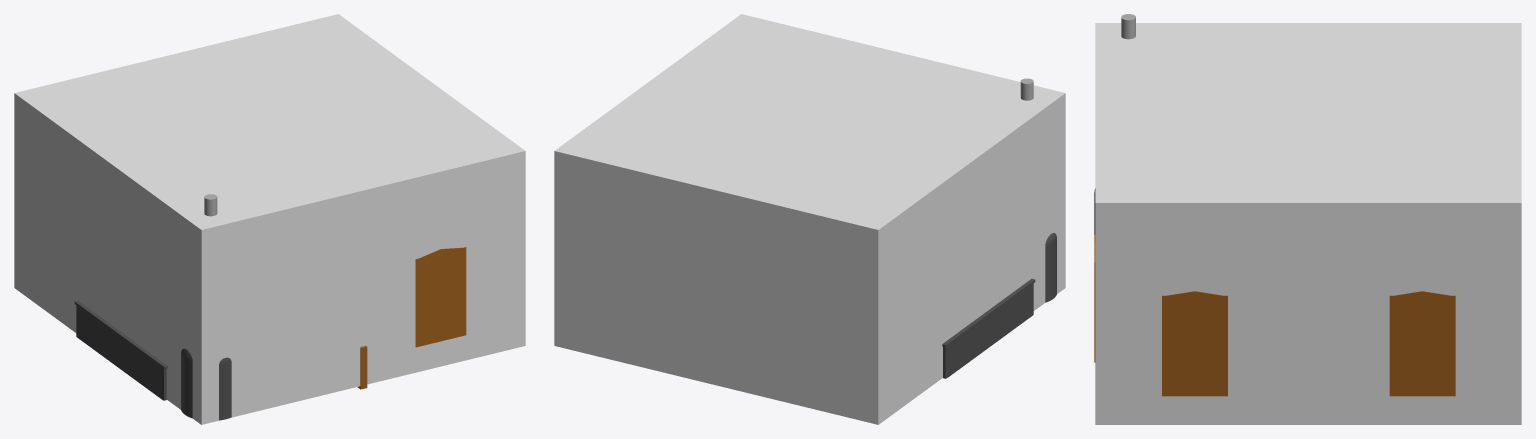
File: pizzeria.fbx
The picture shows the model from 3 angles, left to right: view 1: azimuth 30°, elevation 25°; view 2: azimuth 150°, elevation 25°; view 3: azimuth 270°, elevation 25°; orthographic projection. The views are drawn at different scales.
Visible parts, largest first — view 1: Pizzaria, WindowObject.003, Cube.001, FurnaceObject; view 2: Pizzaria, Cube.001, FurnaceObject; view 3: Pizzaria, WindowObject, WindowObject.001, FurnaceObject.
Part boxes in pixels (x1,y1,x2,y2): Pizzaria: (14,14,525,424); WindowObject.003: (415,247,466,347); Cube.001: (74,300,167,400); FurnaceObject: (181,194,231,420); Pizzaria: (554,14,1065,424); Cube.001: (942,278,1035,378); FurnaceObject: (1020,78,1056,302); Pizzaria: (1095,23,1521,424); WindowObject: (1389,291,1455,396); WindowObject.001: (1162,291,1227,396); FurnaceObject: (1094,14,1135,234).
Size of the model in its own units: 1346 by 841 by 1331.
